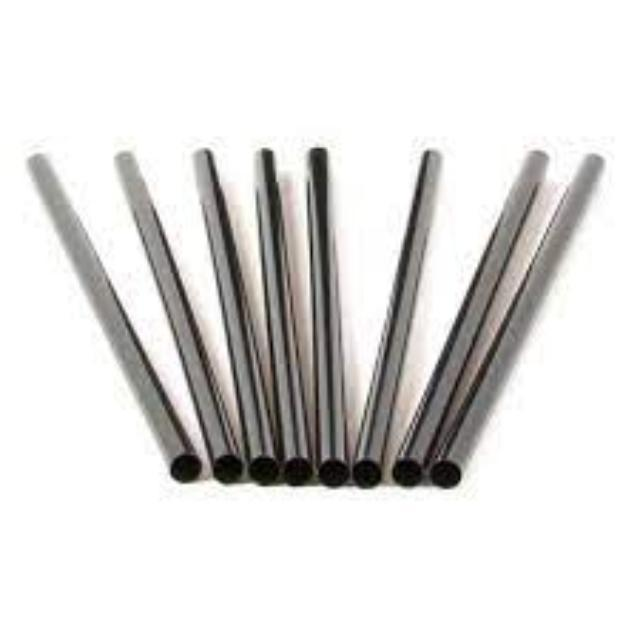Plastico descartable: (431, 154, 604, 488), (28, 154, 201, 482), (396, 151, 548, 485), (115, 152, 242, 482), (352, 150, 441, 488), (194, 149, 280, 484), (256, 149, 312, 485), (308, 148, 350, 486)
